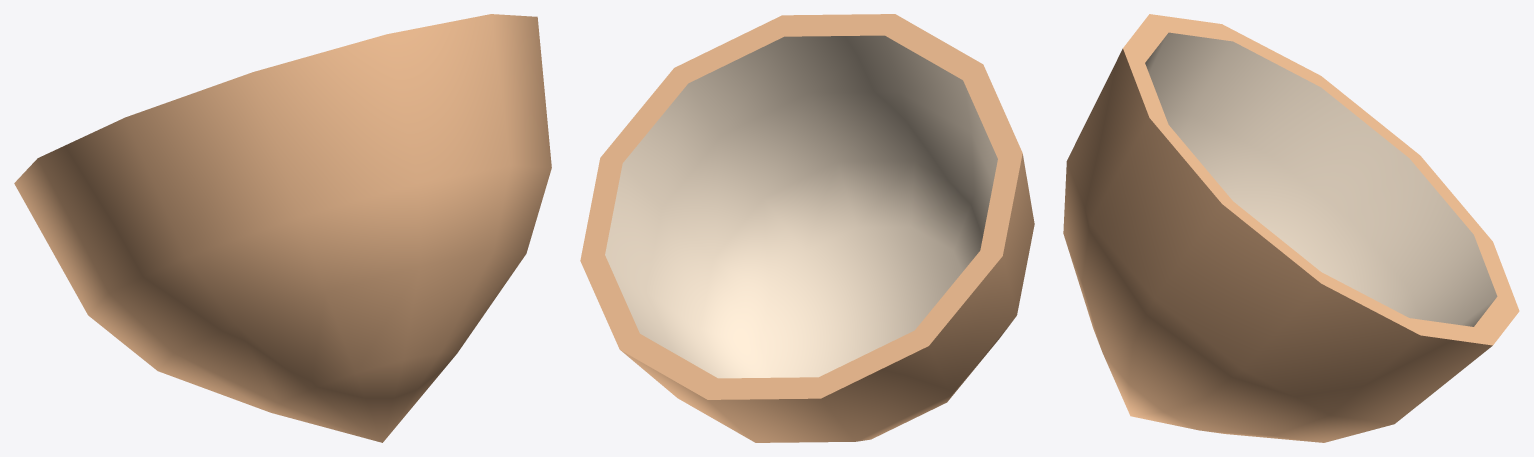
The model's file is cocoaberto01.fbx.
3 views of the same model, side by side, from view 1: azimuth 30°, elevation 25°; view 2: azimuth 150°, elevation 25°; view 3: azimuth 270°, elevation 25° (orthographic). The views are drawn at different scales.
Visible parts, largest first — view 1: cocoaberto01; view 2: cocoaberto01; view 3: cocoaberto01.
Boxes of the visible parts, x1,y1,x2,y2 form: cocoaberto01: (14,14,551,442); cocoaberto01: (580,14,1034,442); cocoaberto01: (1063,14,1519,442).
Bounding box in the file's own units: 11.87 × 9.96 × 11.02.
